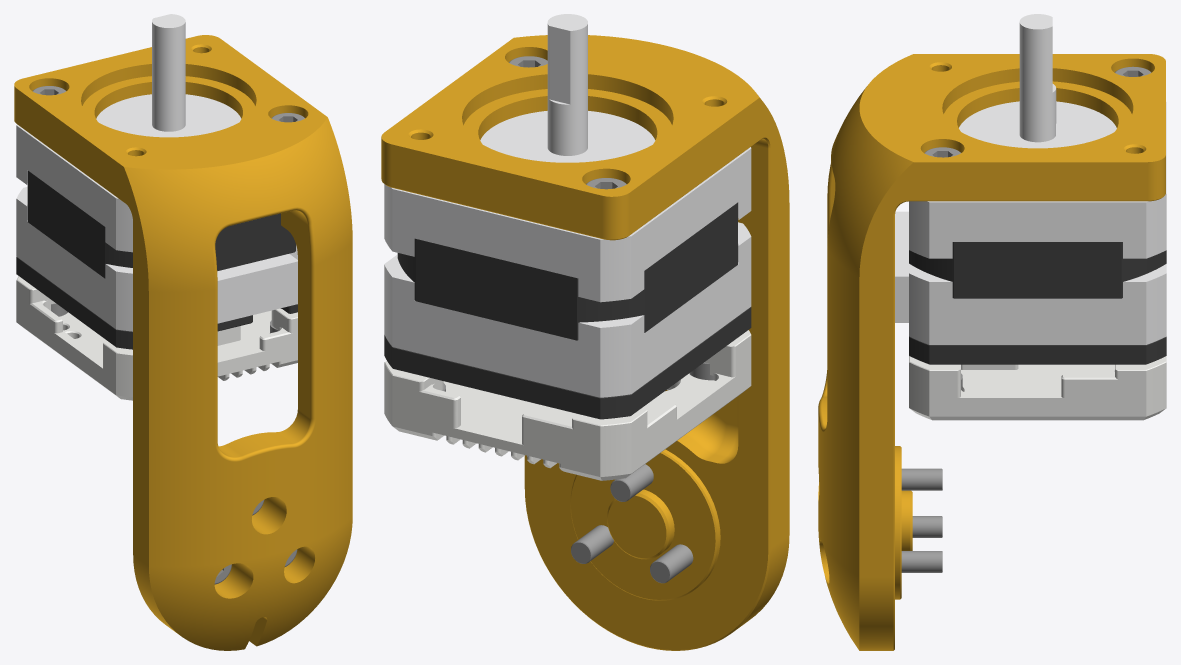
Rendered from 35_20Motor_Assembly_1_2.dae.
3 views of the same model, side by side, from view 1: azimuth 30°, elevation 25°; view 2: azimuth 150°, elevation 25°; view 3: azimuth 270°, elevation 25° (orthographic). The views are drawn at different scales.
Parts seen in each view (by area): view 1: 35_20Motor_Assembly_1_2; view 2: 35_20Motor_Assembly_1_2; view 3: 35_20Motor_Assembly_1_2.
Part boxes in pixels (x1,y1,x2,y2): 35_20Motor_Assembly_1_2: [14, 14, 352, 650]; 35_20Motor_Assembly_1_2: [381, 14, 789, 650]; 35_20Motor_Assembly_1_2: [818, 14, 1166, 650].
Size of the model in its own units: 0.0352 by 0.0476 by 0.093.
